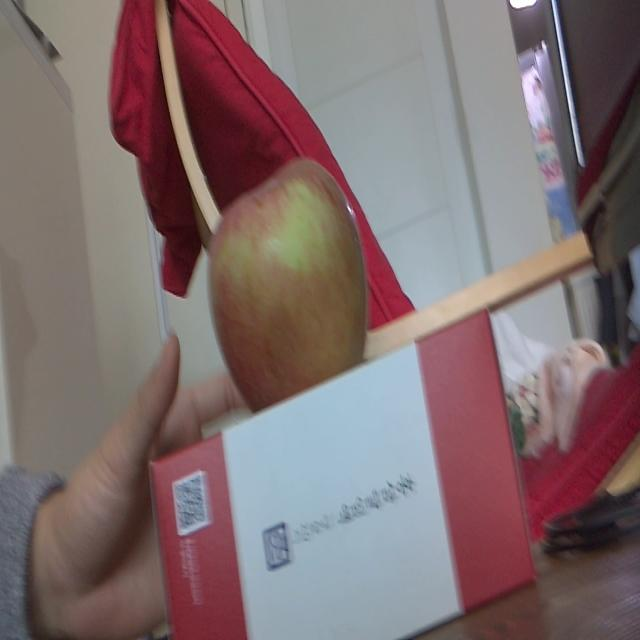apple: (210, 153, 370, 406)
